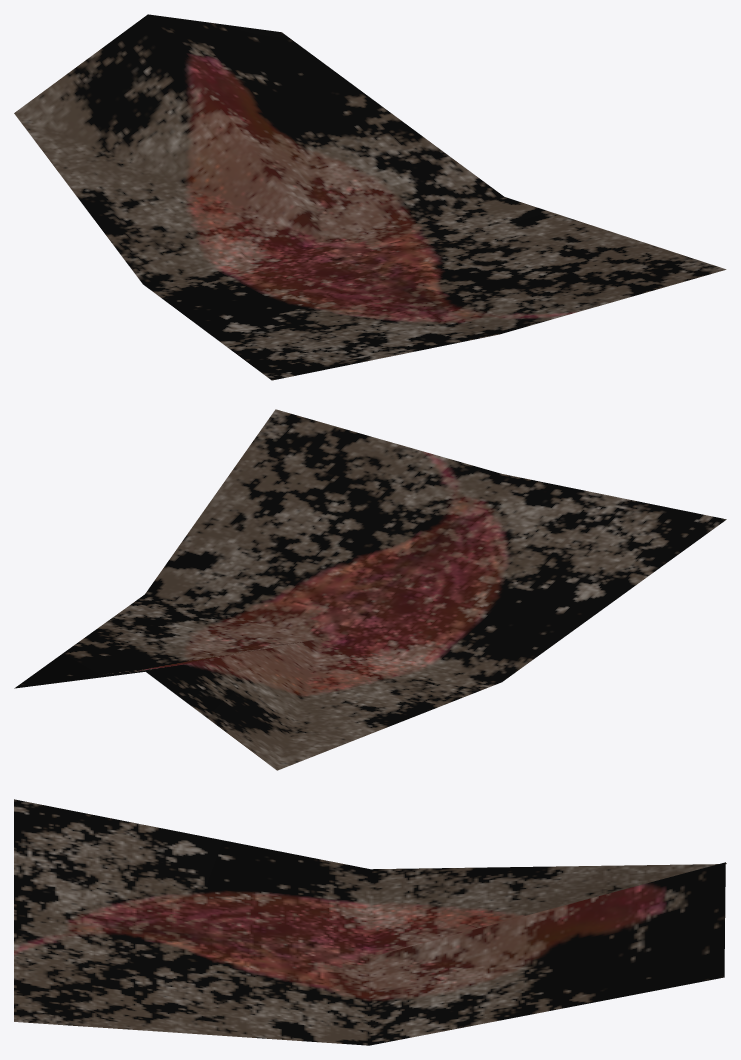
Rendered from SM_Leaf06.FBX.
3 views of the same model, one above another, from view 1: azimuth 30°, elevation 25°; view 2: azimuth 150°, elevation 25°; view 3: azimuth 270°, elevation 25° (orthographic).
Parts seen in each view (by area): view 1: SM_Leaves006; view 2: SM_Leaves006; view 3: SM_Leaves006.
Boxes of the visible parts, x1,y1,x2,y2 form: SM_Leaves006: [14, 14, 726, 380]; SM_Leaves006: [14, 409, 726, 770]; SM_Leaves006: [14, 799, 726, 1045].
Size of the model in its own units: 5.8 by 1.17 by 7.85.
